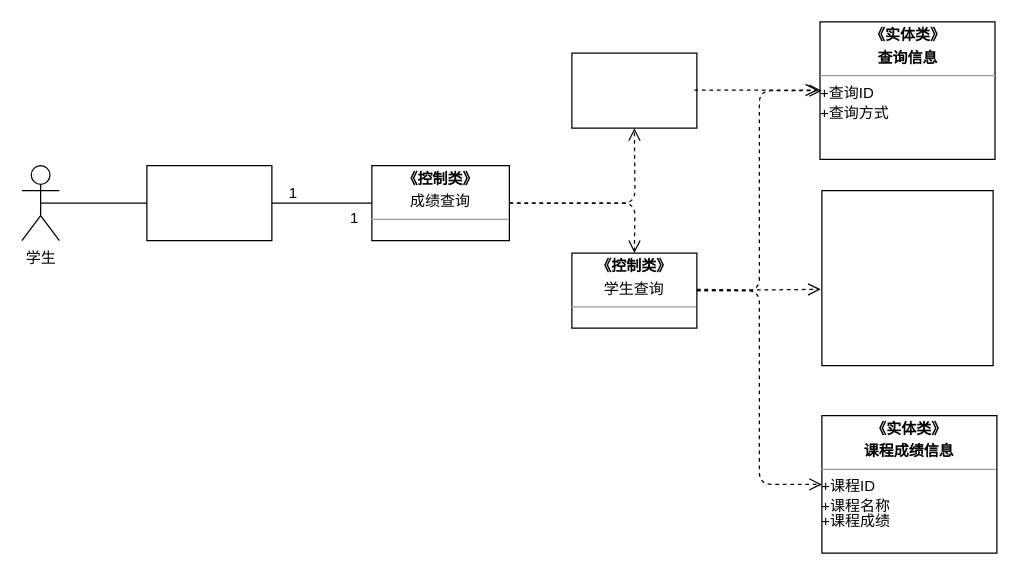
This 1019x575 diagram has some shape labels left out. Each missing label, with the centre of its shape:
"《实体类》 学生信息 +学生ID +学生名称 +学生学号 +学生性别 +学生年龄 +课程名称" goes at point 907,277.
"《控制类》 参数设置" goes at point 634,90.
"《界面类》 学生成绩查询界面" goes at point 209,202.
